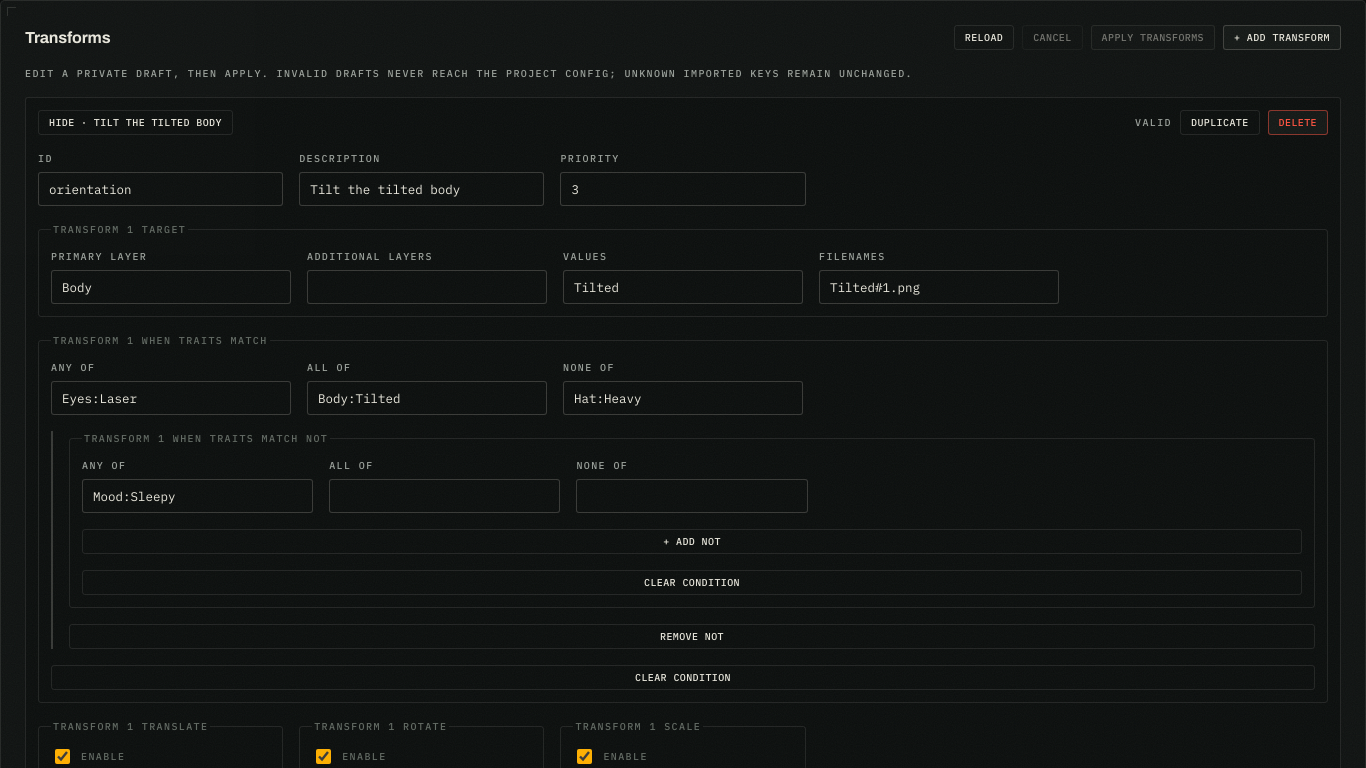
it: TransformRulesEditor › filters project suggestions, supports keyboard selection, and keeps custom primary layers editable
Replace the text in the dropdown named "Transform 1 primary layer" with "Ey": (171, 287) x1=51 y1=270 x2=291 y2=304
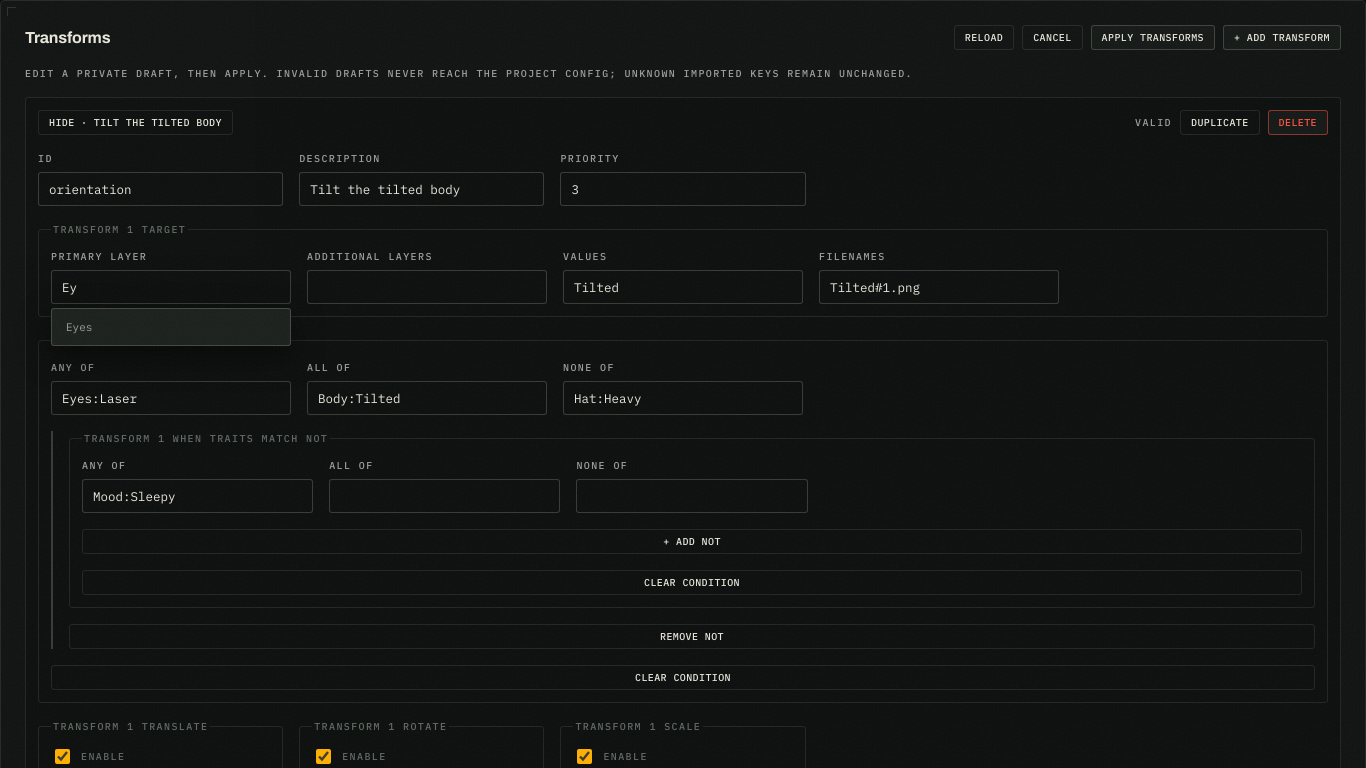
Now the option "Eyes" is shown, box x1=56 y1=313 x2=286 y2=341
Press ArrowDown in the dropdown named "Transform 1 primary layer", box x1=51 y1=270 x2=291 y2=304
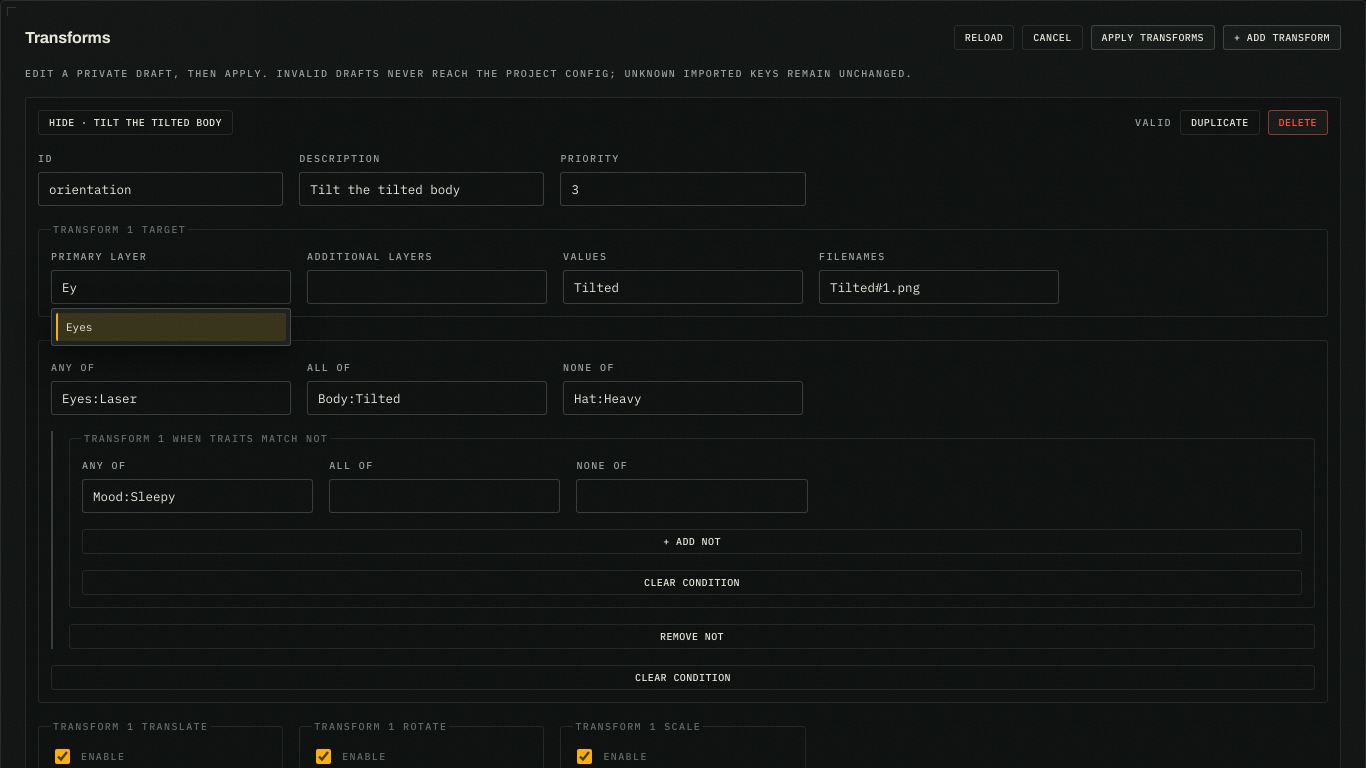
Press Enter in the dropdown named "Transform 1 primary layer", box x1=51 y1=270 x2=291 y2=304
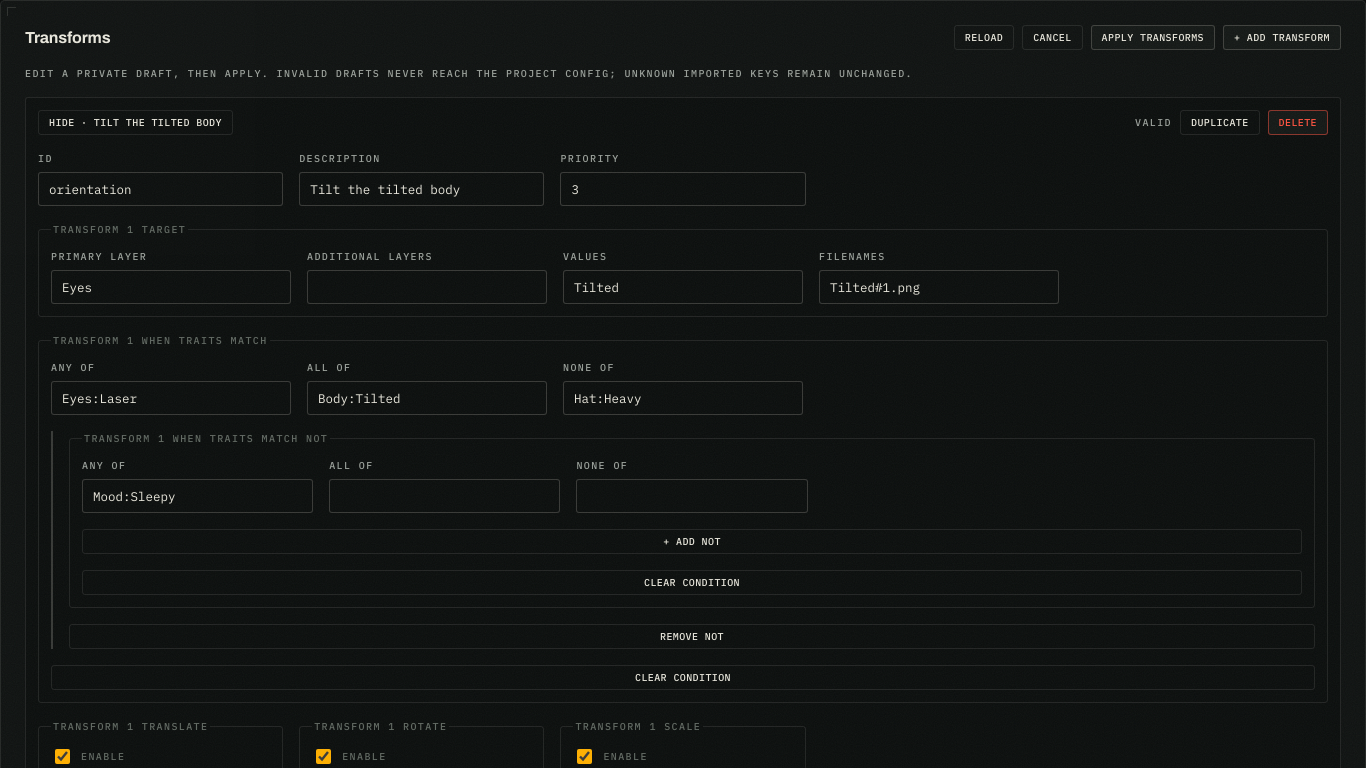
Now the dropdown named "Transform 1 primary layer" holds "Eyes"
Replace the text in the dropdown named "Transform 1 primary layer" with "Archive-only": (171, 287) x1=51 y1=270 x2=291 y2=304
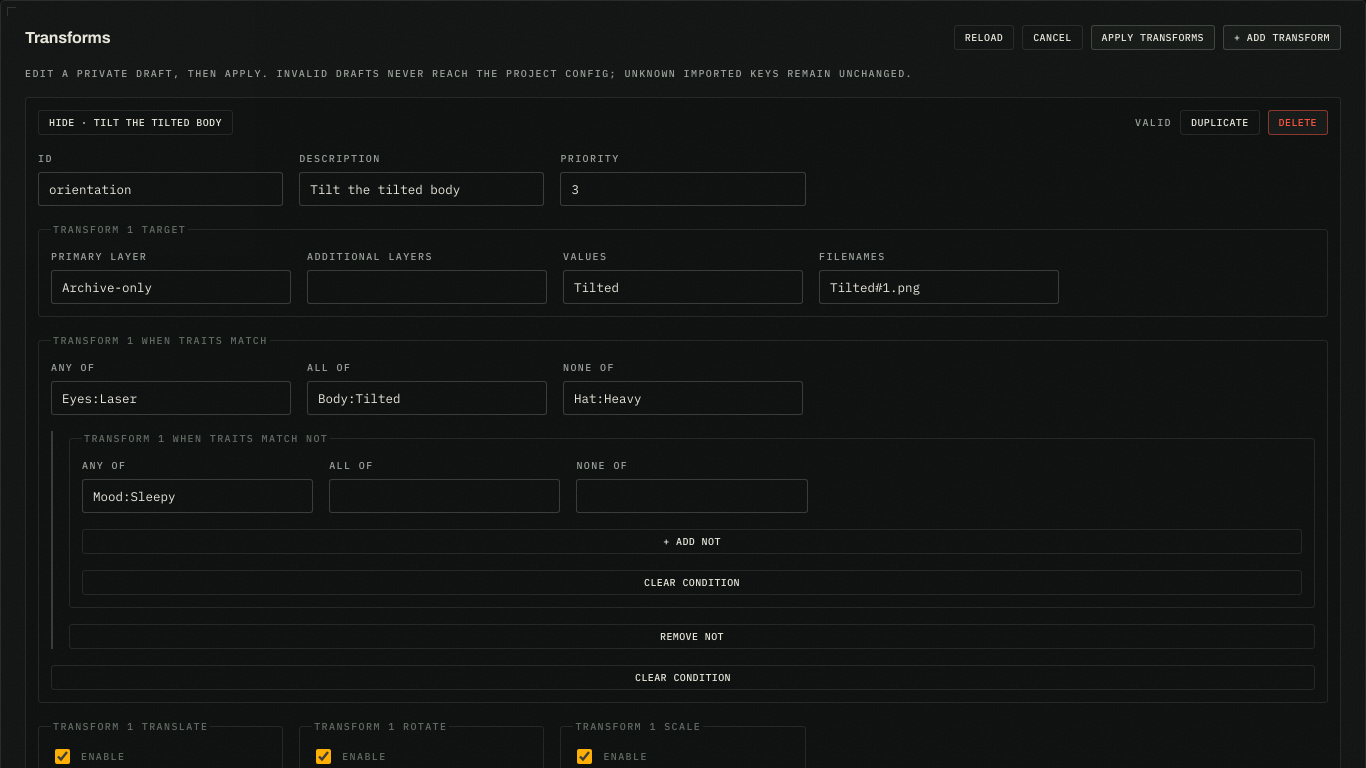
Replace the text in the dropdown named "Transform 1 primary layer" with "Bo": (171, 287) x1=51 y1=270 x2=291 y2=304
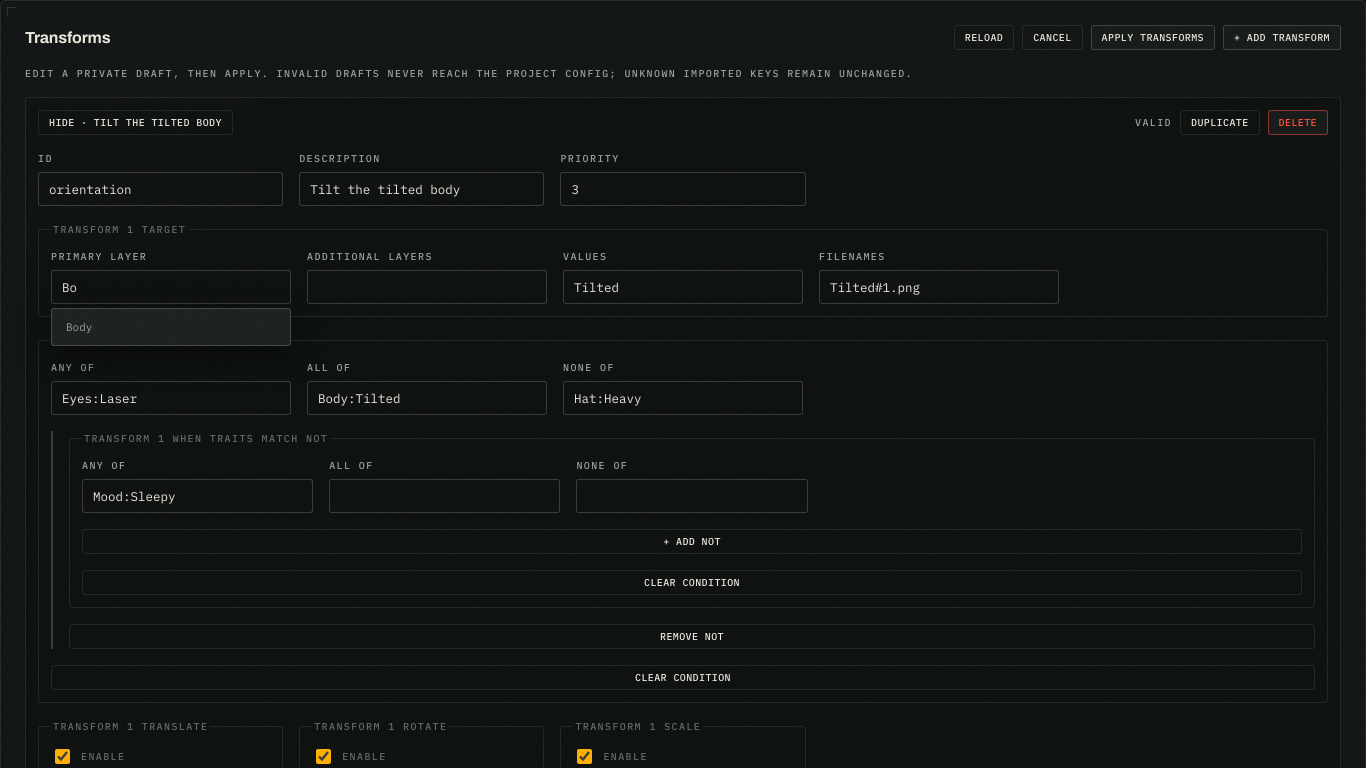
Click the option "Body": (171, 327) x1=56 y1=313 x2=286 y2=341
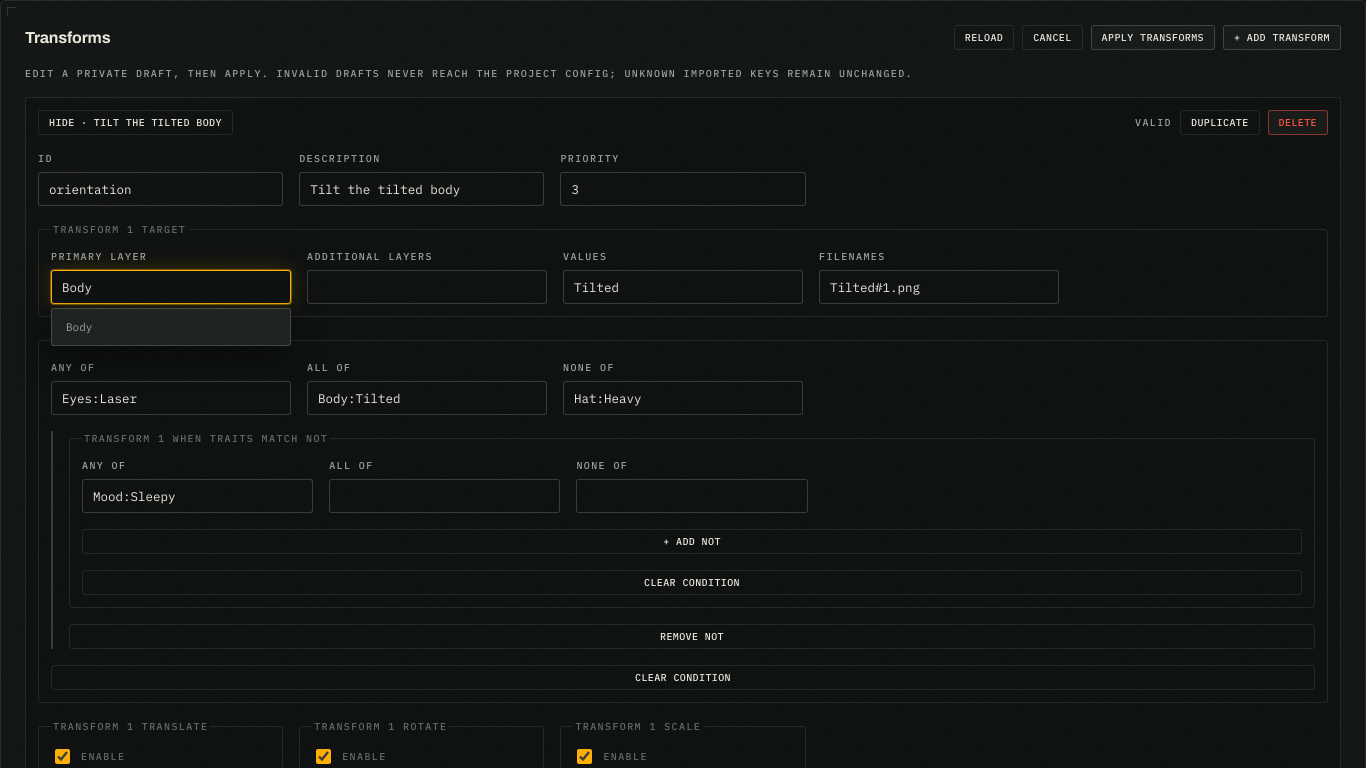
Now the dropdown named "Transform 1 primary layer" holds "Body", box x1=51 y1=270 x2=291 y2=304
